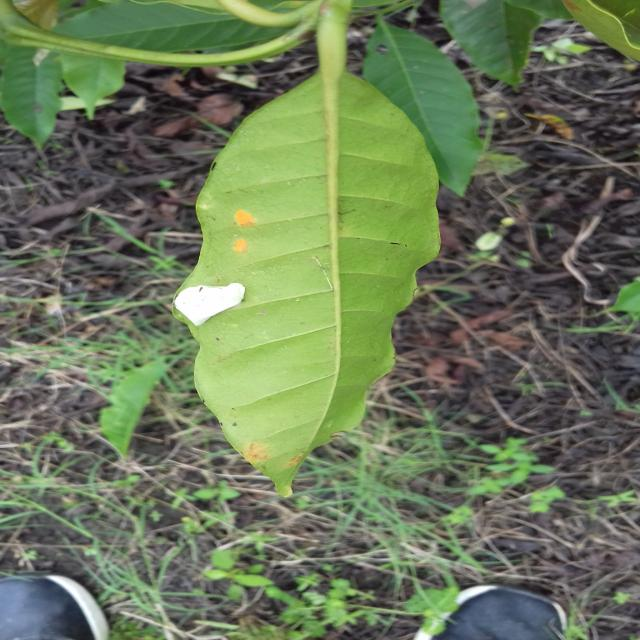Enfermedad-Roya: (186, 73, 441, 501)
